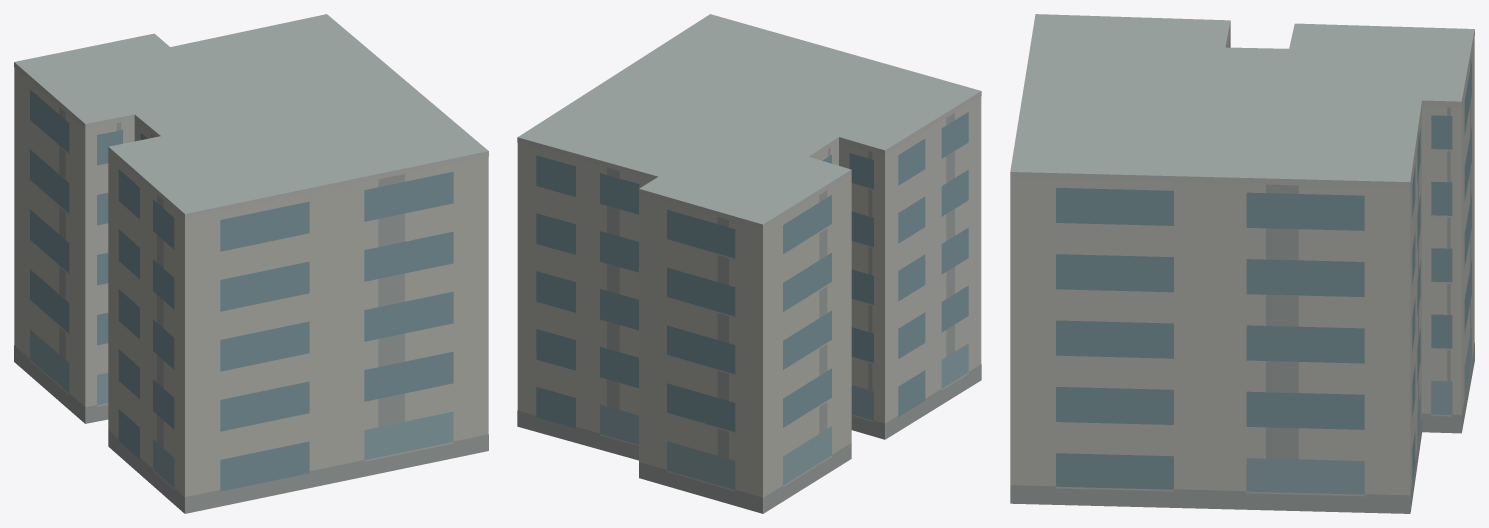
Rendered from survey-upis-32811864.glb.
3 renders of one model, left to right at view 1: azimuth 30°, elevation 25°; view 2: azimuth 150°, elevation 25°; view 3: azimuth 270°, elevation 25°, orthographic. The views are drawn at different scales.
Parts seen in each view (by area): view 1: survey-upis-32811864.tmp; view 2: survey-upis-32811864.tmp; view 3: survey-upis-32811864.tmp.
Part boxes in pixels (left/top/right/bottom): survey-upis-32811864.tmp: left=14, top=14, right=488, bottom=513; survey-upis-32811864.tmp: left=517, top=14, right=981, bottom=513; survey-upis-32811864.tmp: left=1010, top=14, right=1474, bottom=513.
Bounding box in the file's own units: 14.57 × 13.4 × 17.02.
